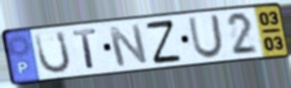2: (226, 11, 260, 57)
N: (106, 23, 151, 68)
T: (71, 27, 99, 71)
U: (33, 29, 73, 76), (187, 13, 225, 60)
Z: (144, 18, 184, 66)
